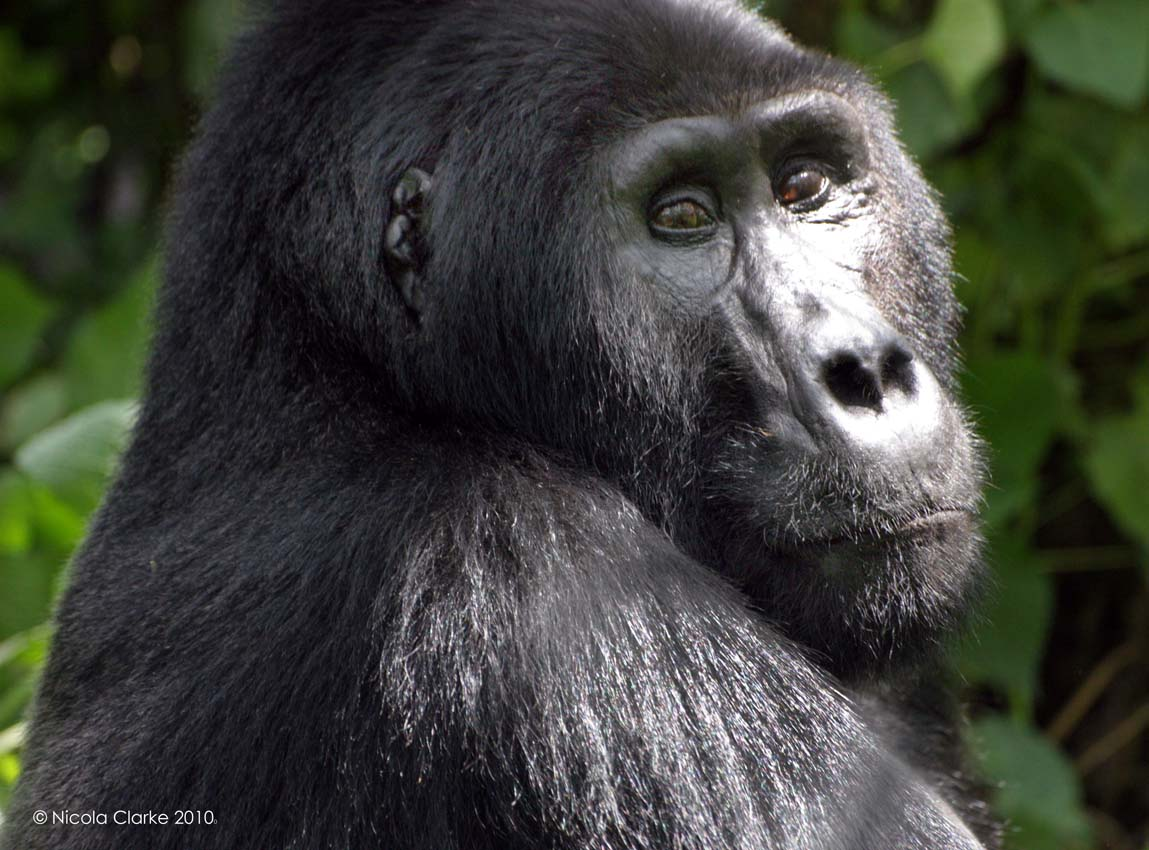Goriila: (169, 8, 1023, 849)
